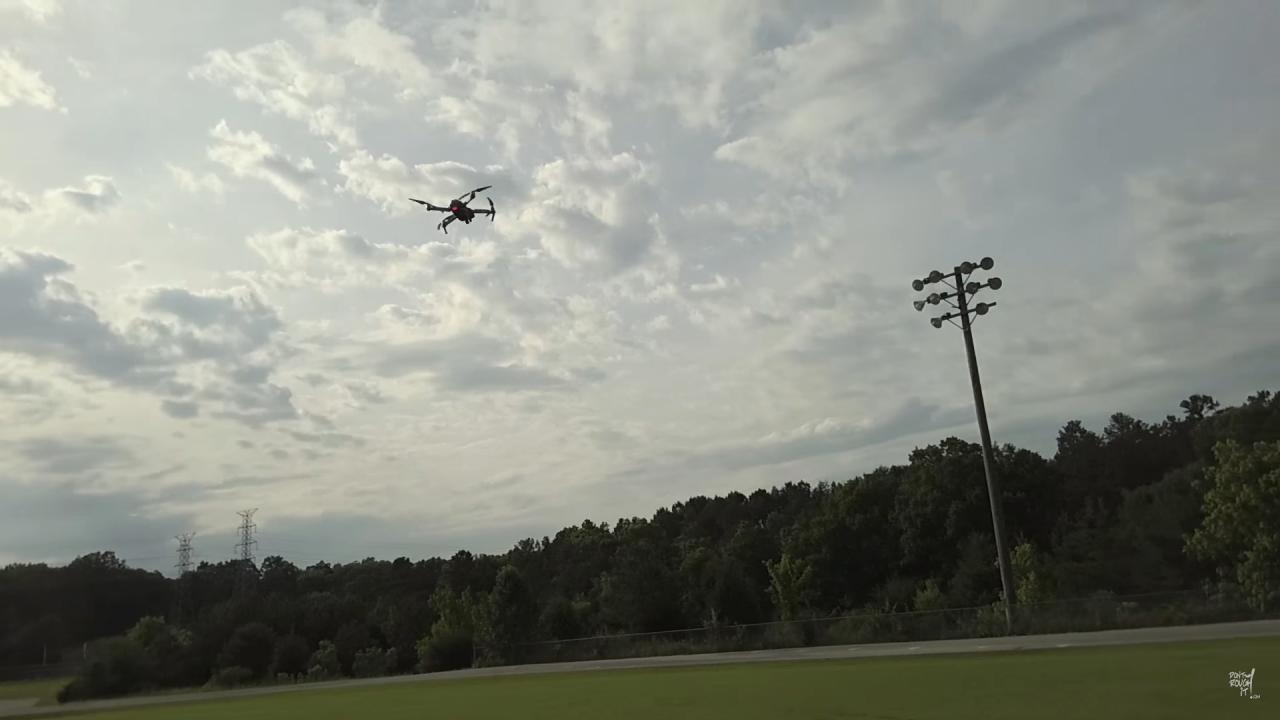Drone: (394, 175, 506, 247)
